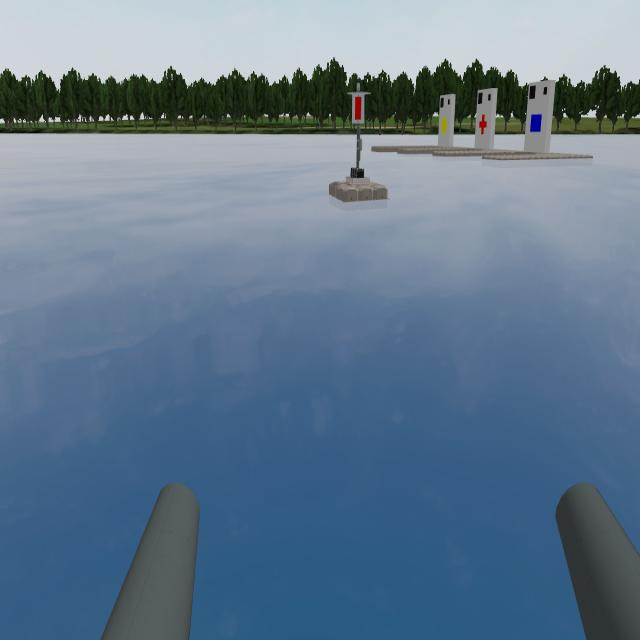red_pole: (345, 77, 374, 131)
